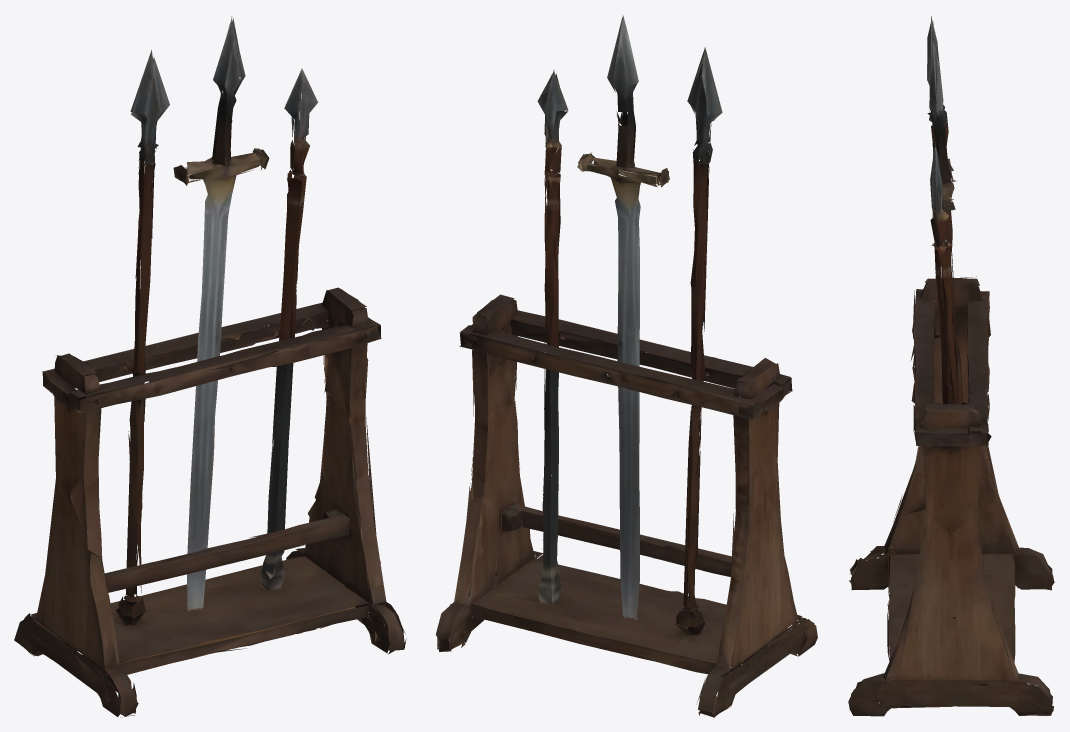
The model's file is weapon-rack.glb.
3 renders of one model, left to right at view 1: azimuth 30°, elevation 25°; view 2: azimuth 150°, elevation 25°; view 3: azimuth 270°, elevation 25°, orthographic. The views are drawn at different scales.
Parts seen in each view (by area): view 1: weapon-rack; view 2: weapon-rack; view 3: weapon-rack.
Part boxes in pixels (x1,y1,x2,y2): weapon-rack: [14, 16, 406, 717]; weapon-rack: [436, 15, 817, 717]; weapon-rack: [848, 16, 1054, 716].
Bounding box in the file's own units: 0.4978 × 0.9903 × 0.3051.
Materials: 1 (1 with a texture image).
